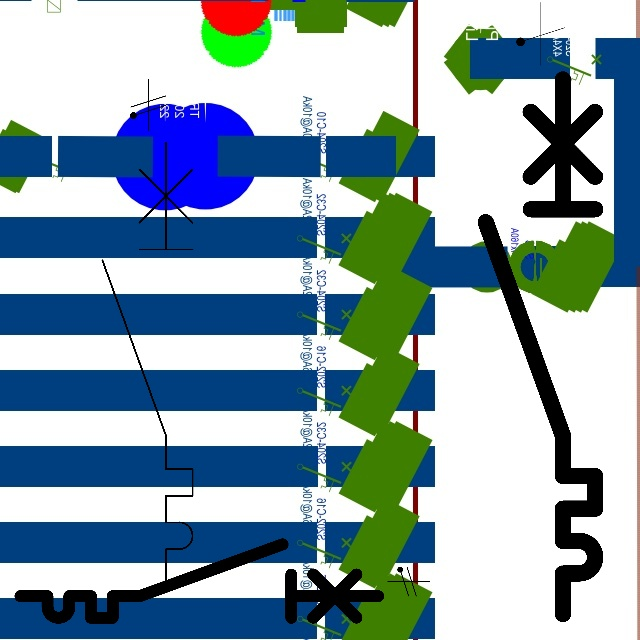interruptor_termomagnetico: (472, 65, 609, 627), (91, 131, 204, 594), (11, 535, 387, 627)
